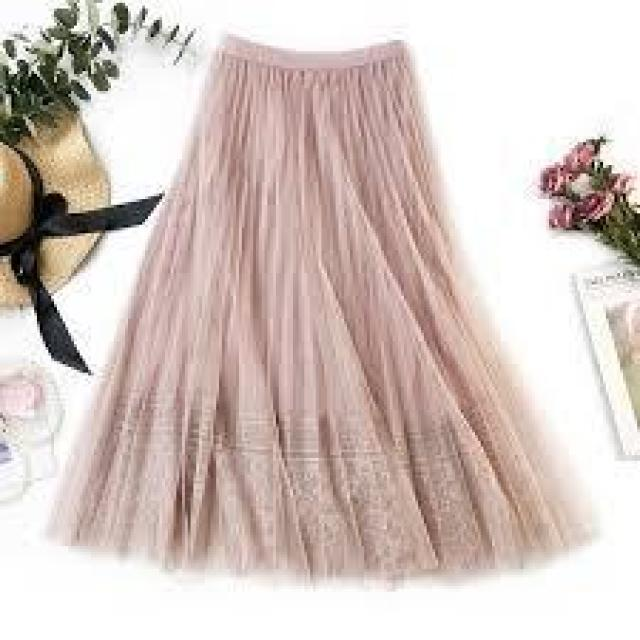skirt: (67, 32, 562, 582)
